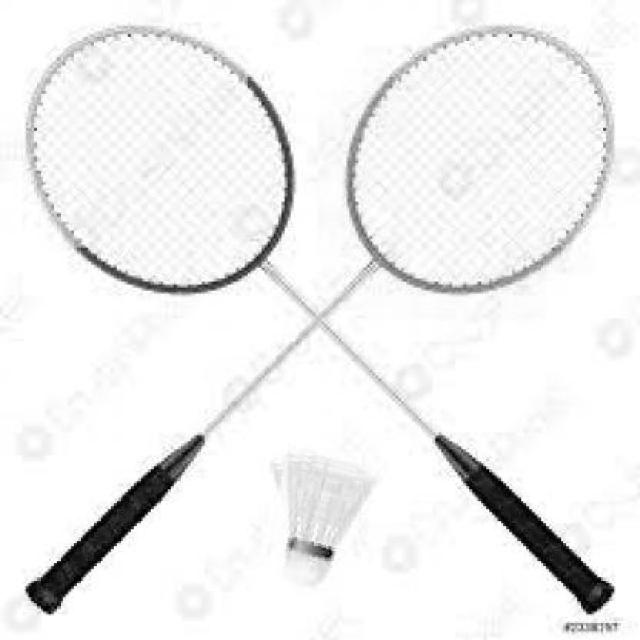Shuttlecock: (261, 449, 377, 598)
